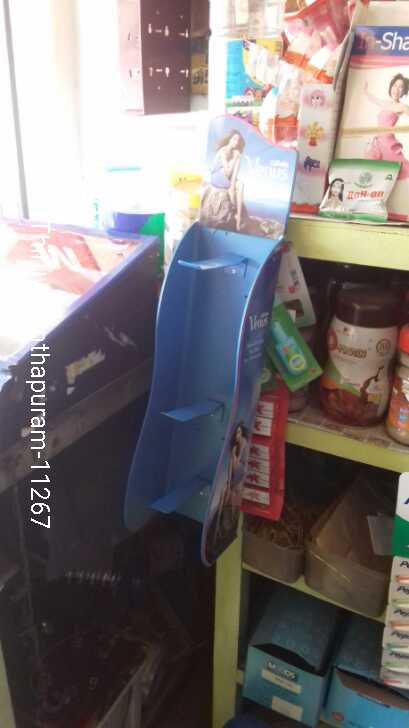reject: (211, 257, 277, 323)
